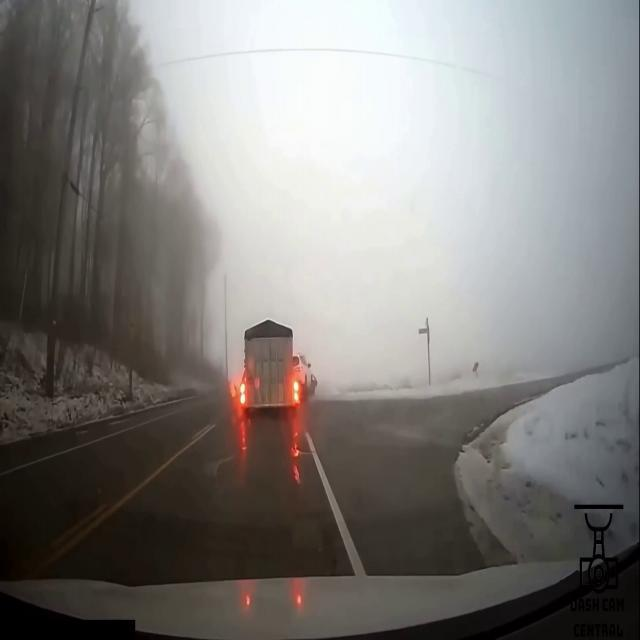accident: (244, 328, 315, 409)
